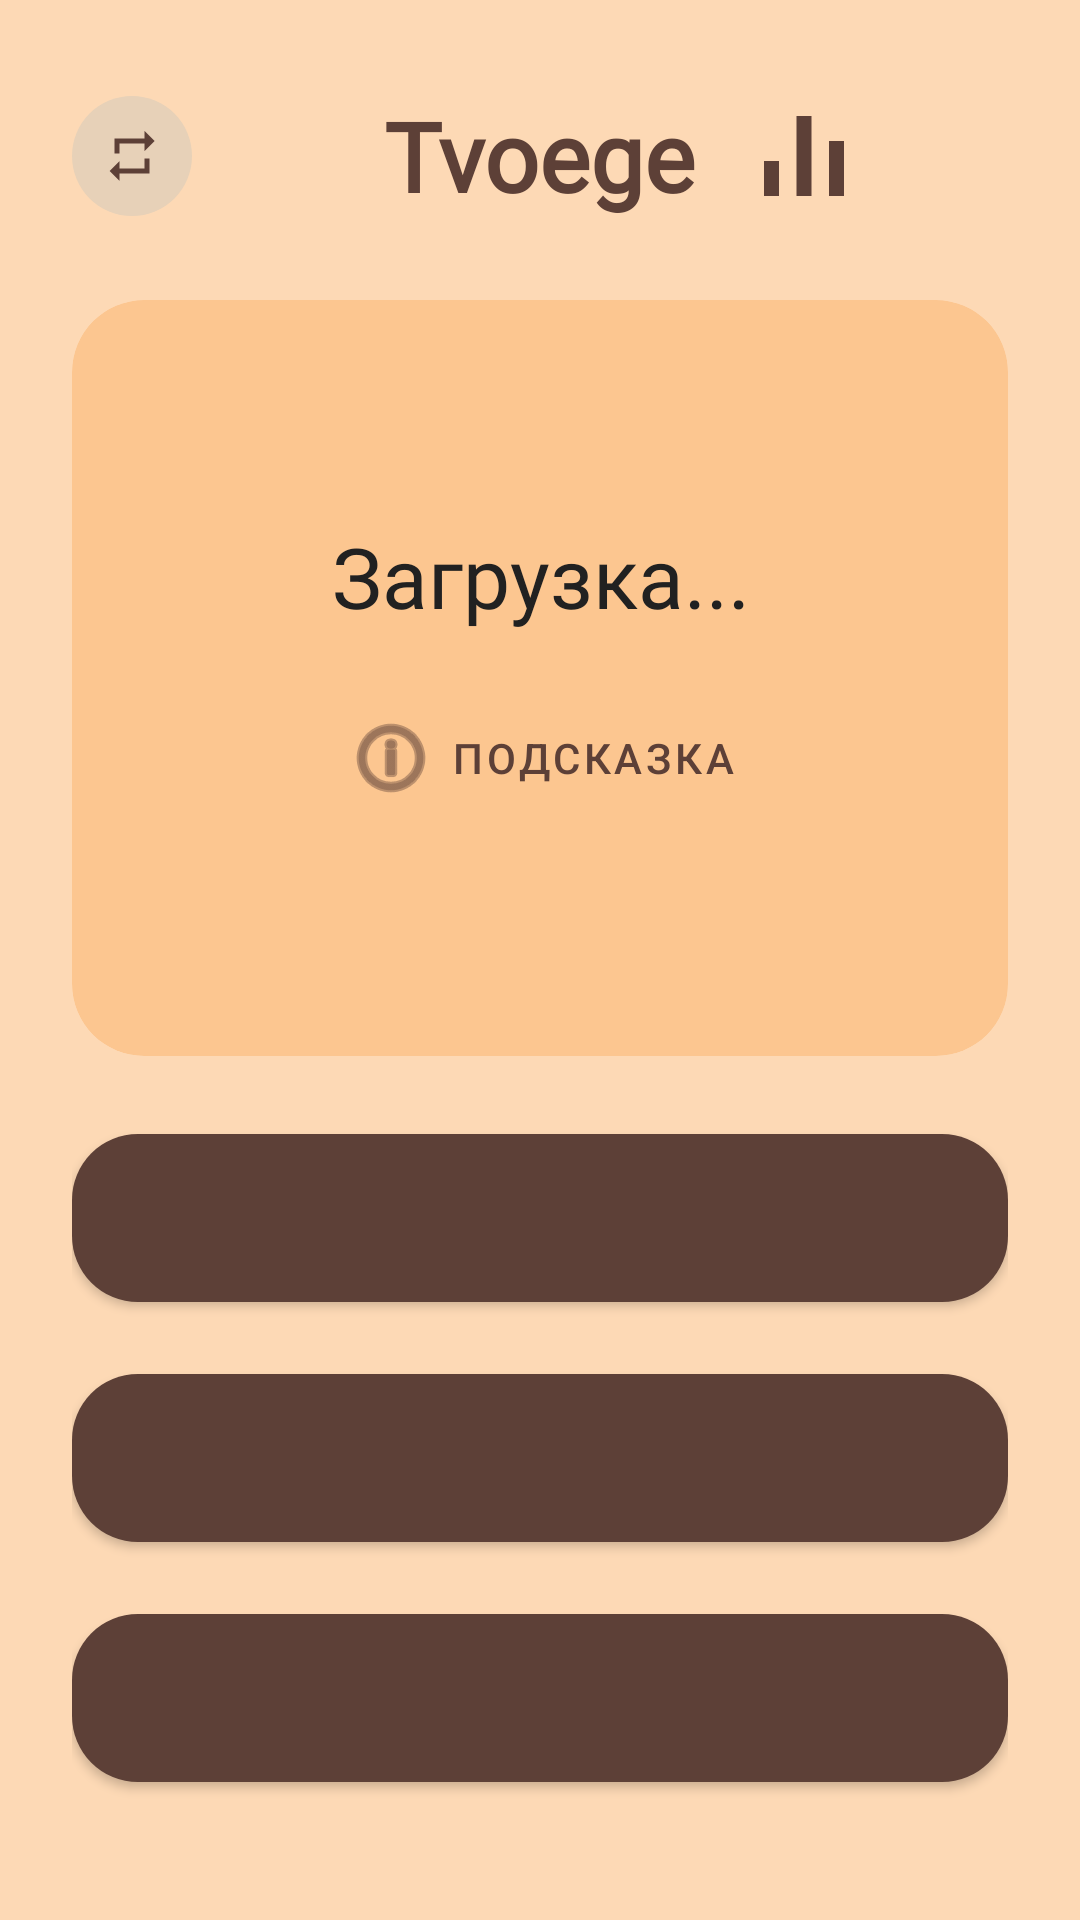

Named icons in this screenshot (1080*1920) and their bounding boxes, (x1, y1, x2, y2):
Работа над ошибками: (72, 96, 192, 216)
Статистика: (764, 116, 844, 196)
